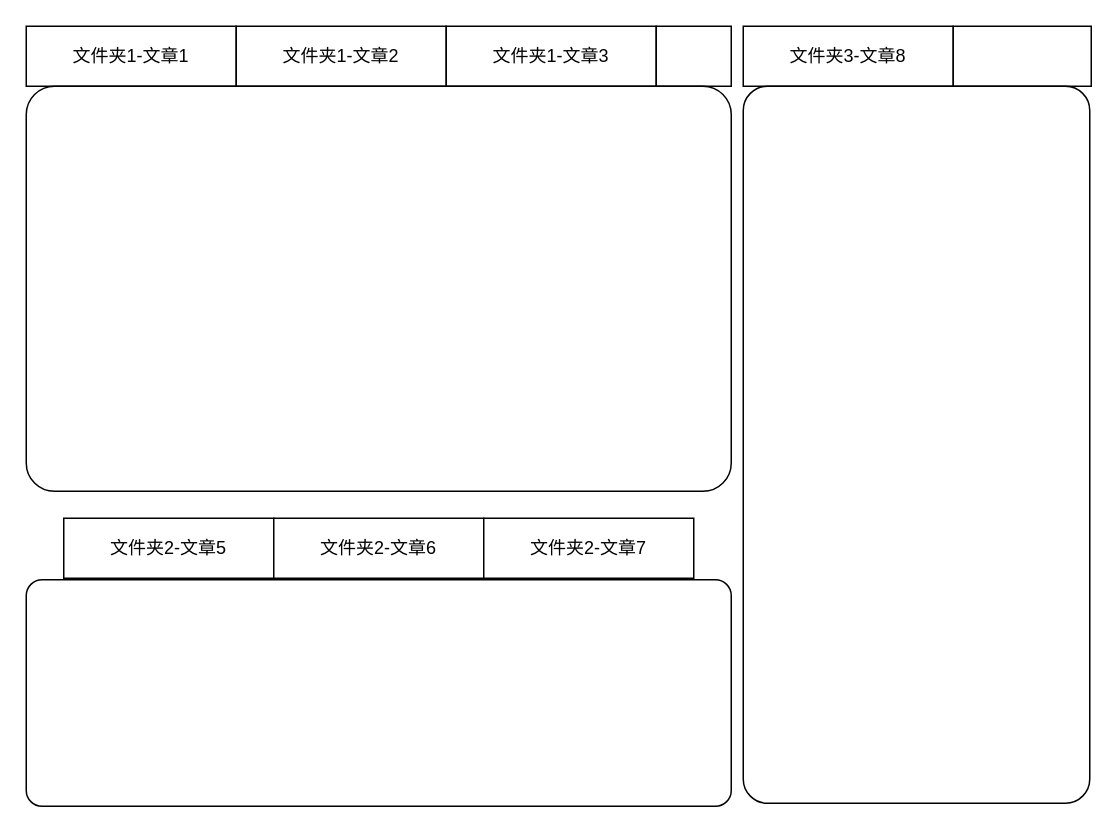
Image size: 1118x833. Some labels were removed from this diagram. Each missing label, with the centre of its shape:
"文件夹1-" belongs at [693,55].
"文件夹3-文章3" belongs at [1021,55].
